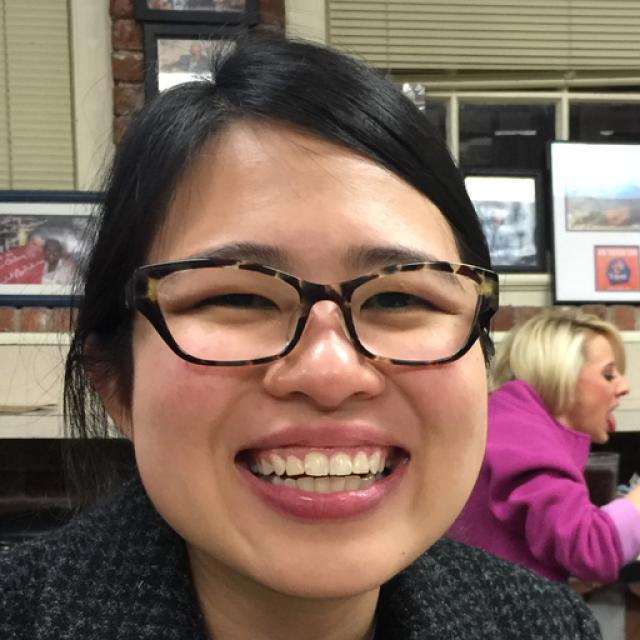happy: (128, 108, 490, 598)
